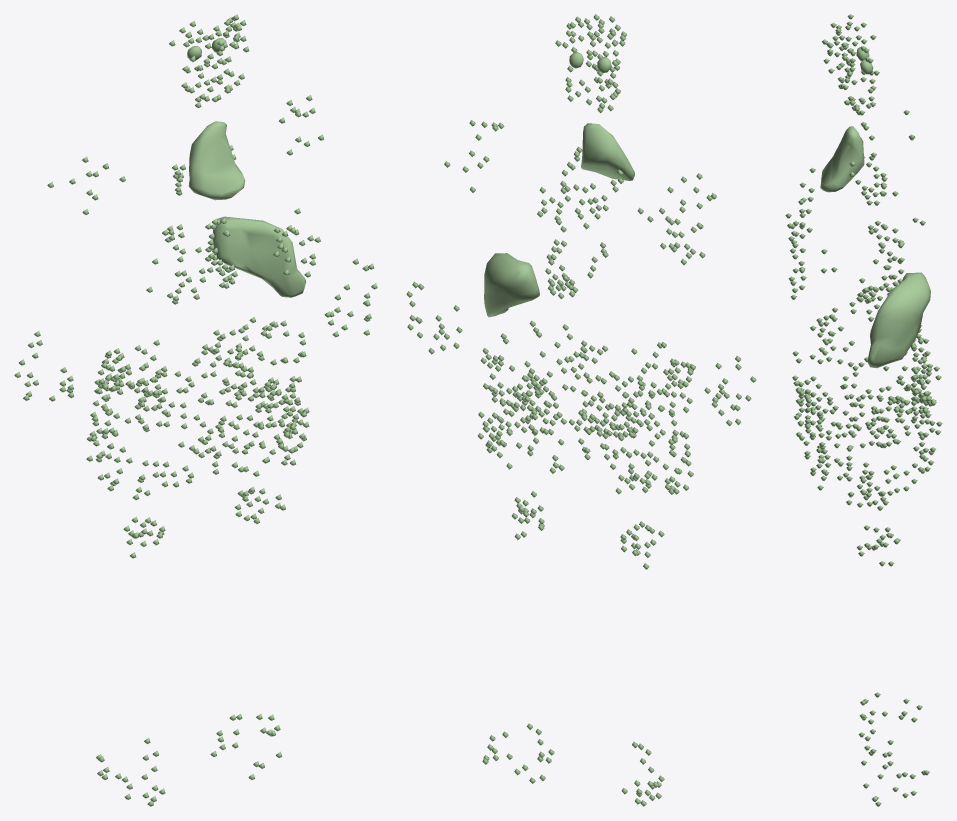
Rendered from pediatric_child_5y_female.lymphatic.LOD2.glb.
3 views of the same model, side by side, from view 1: azimuth 30°, elevation 25°; view 2: azimuth 150°, elevation 25°; view 3: azimuth 270°, elevation 25° (orthographic). The views are drawn at different scales.
Parts seen in each view (by area): view 1: PEDIATRIC.CHILD_5Y.FEMALE.LYMPHATIC.LYMPHATIC_NODES_TRUNK, PEDIATRIC.CHILD_5Y.FEMALE.LYMPHATIC.SPLEEN, PEDIATRIC.CHILD_5Y.FEMALE.LYMPHATIC.THYMUS, PEDIATRIC.CHILD_5Y.FEMALE.LYMPHATIC.LYMPHATIC_NODES_ET, PEDIATRIC.CHILD_5Y.FEMALE.LYMPHATIC.LYMPHATIC_NODES_THORACIC, PEDIATRIC.CHILD_5Y.FEMALE.LYMPHATIC.LYMPHATIC_NODES_LEGS, PEDIATRIC.CHILD_5Y.FEMALE.LYMPHATIC.LYMPHATIC_NODES_ARMS; view 2: PEDIATRIC.CHILD_5Y.FEMALE.LYMPHATIC.LYMPHATIC_NODES_TRUNK, PEDIATRIC.CHILD_5Y.FEMALE.LYMPHATIC.SPLEEN, PEDIATRIC.CHILD_5Y.FEMALE.LYMPHATIC.THYMUS, PEDIATRIC.CHILD_5Y.FEMALE.LYMPHATIC.LYMPHATIC_NODES_ET, PEDIATRIC.CHILD_5Y.FEMALE.LYMPHATIC.LYMPHATIC_NODES_THORACIC, PEDIATRIC.CHILD_5Y.FEMALE.LYMPHATIC.LYMPHATIC_NODES_ARMS, PEDIATRIC.CHILD_5Y.FEMALE.LYMPHATIC.LYMPHATIC_NODES_LEGS; view 3: PEDIATRIC.CHILD_5Y.FEMALE.LYMPHATIC.LYMPHATIC_NODES_TRUNK, PEDIATRIC.CHILD_5Y.FEMALE.LYMPHATIC.SPLEEN, PEDIATRIC.CHILD_5Y.FEMALE.LYMPHATIC.THYMUS, PEDIATRIC.CHILD_5Y.FEMALE.LYMPHATIC.LYMPHATIC_NODES_ET, PEDIATRIC.CHILD_5Y.FEMALE.LYMPHATIC.LYMPHATIC_NODES_THORACIC, PEDIATRIC.CHILD_5Y.FEMALE.LYMPHATIC.LYMPHATIC_NODES_LEGS, PEDIATRIC.CHILD_5Y.FEMALE.LYMPHATIC.LYMPHATIC_NODES_ARMS, PEDIATRIC.CHILD_5Y.FEMALE.LYMPHATIC.LYMPHATIC_NODES_HEAD.
Boxes of the visible parts, x1,y1,x2,y2 form: PEDIATRIC.CHILD_5Y.FEMALE.LYMPHATIC.LYMPHATIC_NODES_TRUNK: (47, 95, 323, 558); PEDIATRIC.CHILD_5Y.FEMALE.LYMPHATIC.SPLEEN: (213, 216, 305, 297); PEDIATRIC.CHILD_5Y.FEMALE.LYMPHATIC.THYMUS: (188, 121, 245, 200); PEDIATRIC.CHILD_5Y.FEMALE.LYMPHATIC.LYMPHATIC_NODES_ET: (169, 14, 249, 85); PEDIATRIC.CHILD_5Y.FEMALE.LYMPHATIC.LYMPHATIC_NODES_THORACIC: (165, 145, 237, 288); PEDIATRIC.CHILD_5Y.FEMALE.LYMPHATIC.LYMPHATIC_NODES_LEGS: (96, 714, 281, 806); PEDIATRIC.CHILD_5Y.FEMALE.LYMPHATIC.LYMPHATIC_NODES_ARMS: (14, 258, 377, 401); PEDIATRIC.CHILD_5Y.FEMALE.LYMPHATIC.LYMPHATIC_NODES_TRUNK: (444, 120, 716, 569); PEDIATRIC.CHILD_5Y.FEMALE.LYMPHATIC.SPLEEN: (484, 253, 539, 317); PEDIATRIC.CHILD_5Y.FEMALE.LYMPHATIC.THYMUS: (581, 123, 634, 180); PEDIATRIC.CHILD_5Y.FEMALE.LYMPHATIC.LYMPHATIC_NODES_ET: (555, 14, 627, 91); PEDIATRIC.CHILD_5Y.FEMALE.LYMPHATIC.LYMPHATIC_NODES_THORACIC: (545, 146, 623, 299); PEDIATRIC.CHILD_5Y.FEMALE.LYMPHATIC.LYMPHATIC_NODES_ARMS: (406, 281, 756, 426); PEDIATRIC.CHILD_5Y.FEMALE.LYMPHATIC.LYMPHATIC_NODES_LEGS: (482, 723, 664, 806); PEDIATRIC.CHILD_5Y.FEMALE.LYMPHATIC.LYMPHATIC_NODES_TRUNK: (785, 85, 942, 566); PEDIATRIC.CHILD_5Y.FEMALE.LYMPHATIC.SPLEEN: (867, 272, 930, 368); PEDIATRIC.CHILD_5Y.FEMALE.LYMPHATIC.THYMUS: (820, 126, 864, 192); PEDIATRIC.CHILD_5Y.FEMALE.LYMPHATIC.LYMPHATIC_NODES_ET: (821, 14, 879, 90); PEDIATRIC.CHILD_5Y.FEMALE.LYMPHATIC.LYMPHATIC_NODES_THORACIC: (849, 152, 904, 303); PEDIATRIC.CHILD_5Y.FEMALE.LYMPHATIC.LYMPHATIC_NODES_LEGS: (858, 692, 929, 806); PEDIATRIC.CHILD_5Y.FEMALE.LYMPHATIC.LYMPHATIC_NODES_ARMS: (856, 234, 903, 448); PEDIATRIC.CHILD_5Y.FEMALE.LYMPHATIC.LYMPHATIC_NODES_HEAD: (838, 71, 873, 115).
Size of the model in its own units: 0.3443 by 0.726 by 0.1364.
